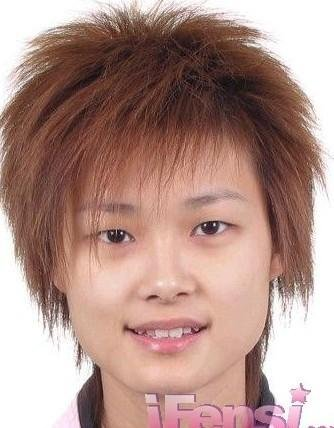unmask: (61, 172, 268, 377)
